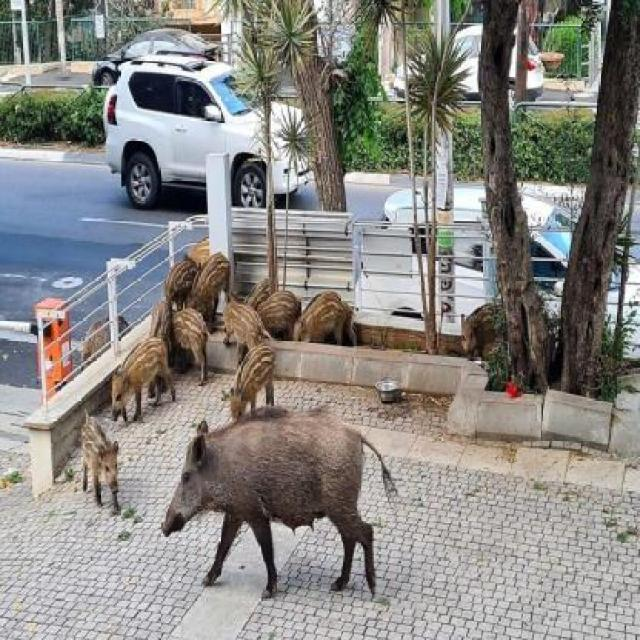wildboar: (157, 408, 405, 603), (106, 333, 180, 432), (73, 400, 127, 522), (289, 284, 360, 354), (218, 284, 274, 371), (228, 342, 280, 429), (167, 297, 216, 388), (73, 310, 132, 382), (191, 245, 234, 322), (253, 285, 304, 343), (161, 252, 204, 314), (194, 246, 232, 316), (240, 266, 275, 326), (149, 288, 174, 357)
